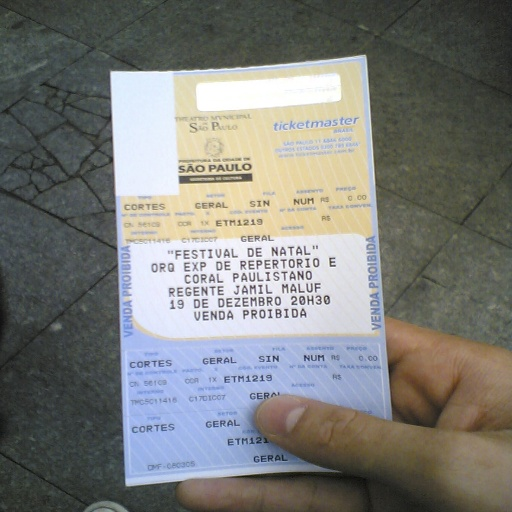hand: (176, 313, 511, 511)
